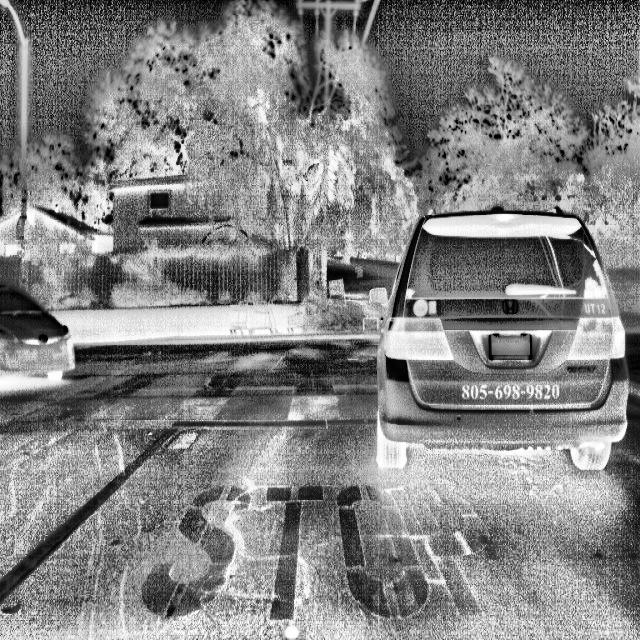car: (368, 176, 634, 496), (0, 249, 82, 406)
